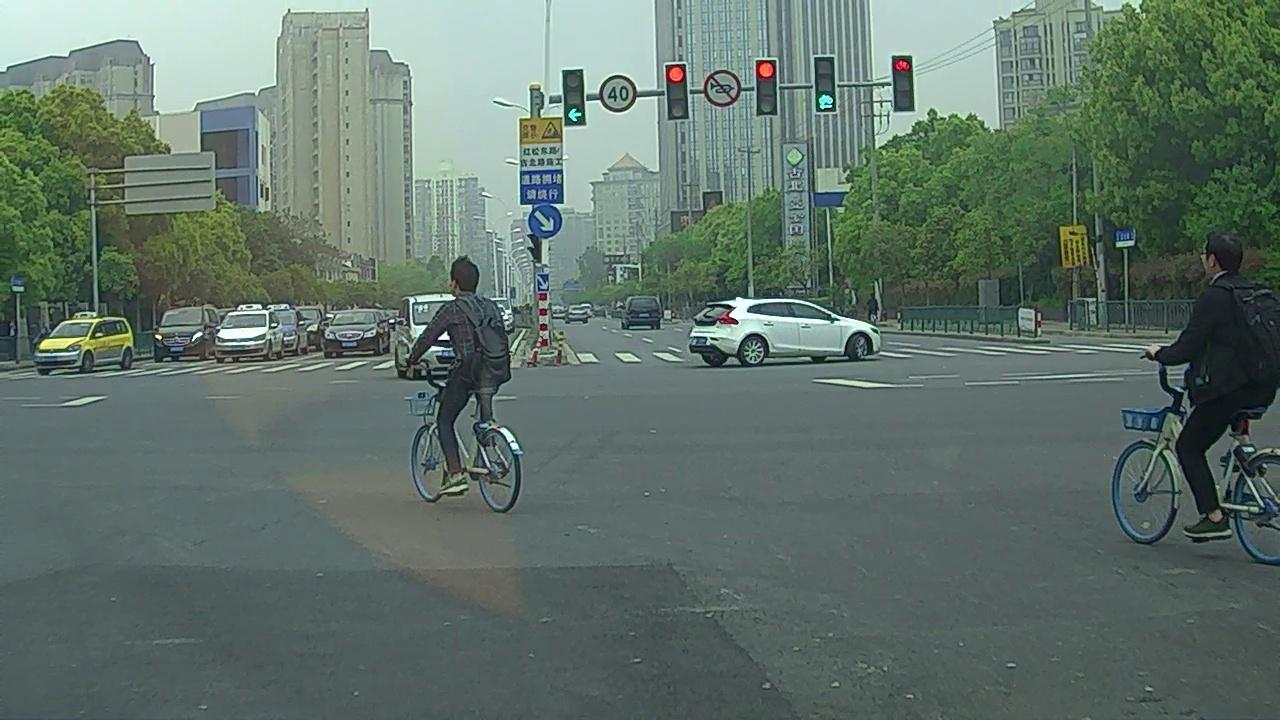traffic_light: (892, 54, 915, 112), (562, 70, 586, 125), (755, 59, 778, 115), (666, 64, 689, 119), (816, 56, 837, 113)
